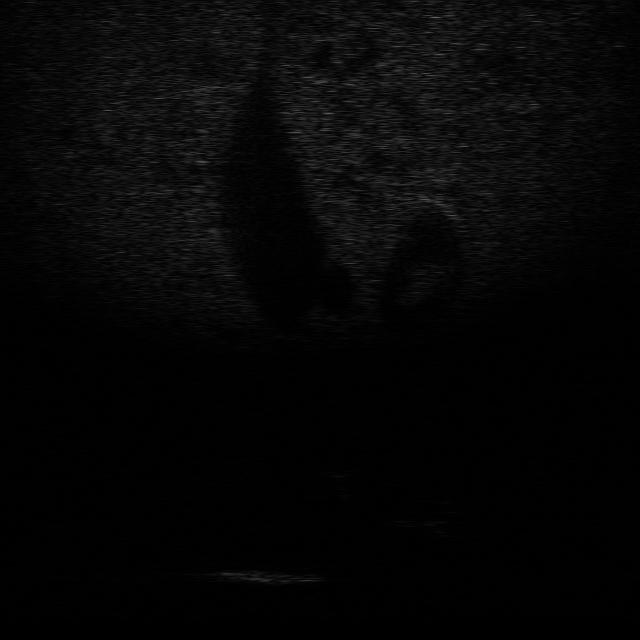ball: (311, 451, 361, 478)
metal bucket: (202, 562, 328, 588)
tyre: (379, 495, 460, 533)
